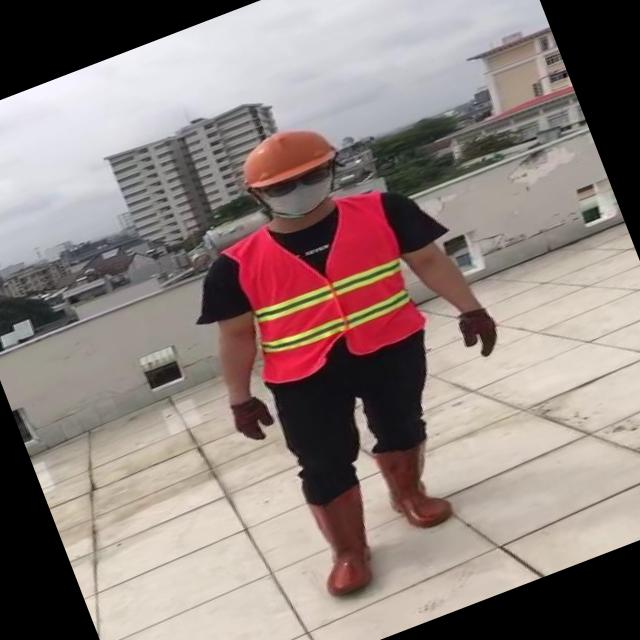hard_hat: (224, 113, 343, 198)
safety_vest: (223, 188, 428, 387)
vehicle: (128, 78, 583, 625)
work_boots: (294, 482, 396, 602), (369, 429, 460, 538)
